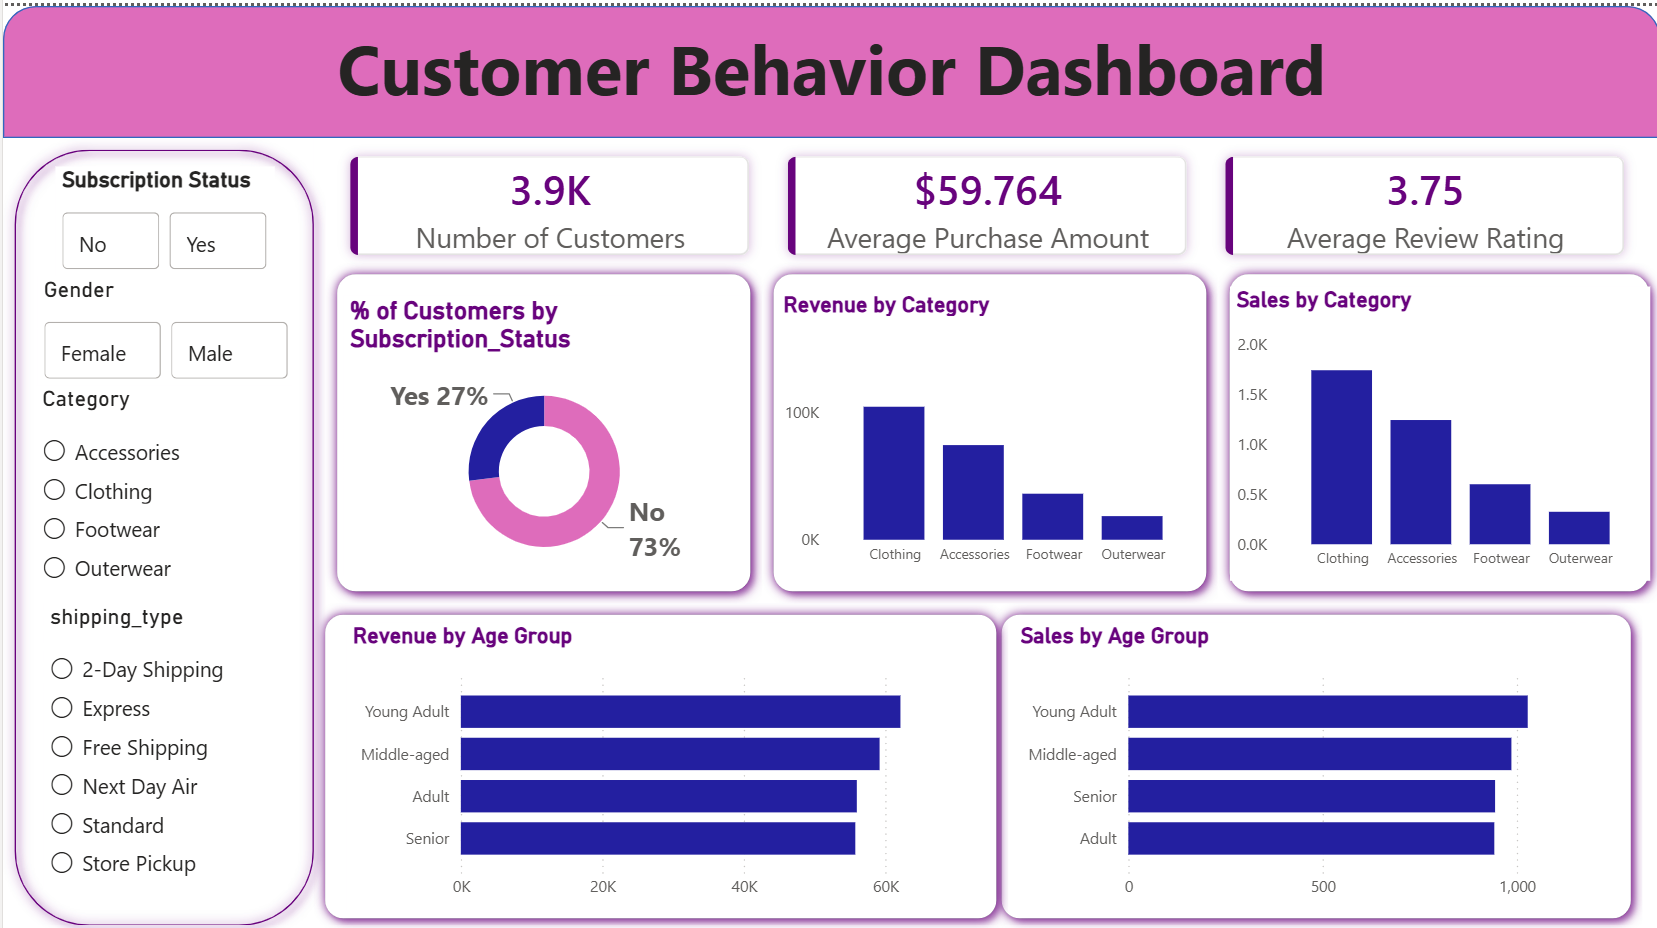

Layout of this report page (visuals, bound fields, positions):
{"tool":"powerbi","page":{"name":"Page 1","canvas":[1280,720],"ordinal":0},"visuals":[{"type":"cardVisual","fields":{"Data":["public customer.Number of Customers","public customer.Average Purchase Amount","public customer.Average Review Rating"]},"box":[239.9,88.1,1040.5,132.1],"z":0},{"type":"shape","box":[0,0,1280.4,102],"z":1000},{"type":"textbox","box":[0,5.8,1280.4,90.4],"z":2000},{"type":"shape","box":[249.1,198.1,337.2,263],"z":3000},{"type":"donutChart","title":"% of Customers by Subscription_Status","fields":{"Category":["public customer.subscription_status"],"Y":["CountNonNull(public customer.customer_id)"]},"box":[263,223.6,309.4,216.7],"z":4000},{"type":"shape","box":[938.6,198.1,341.8,263],"z":5000},{"type":"shape","box":[586.3,198.1,352.3,263],"z":6000},{"type":"shape","box":[762.4,461.2,504,252.6],"z":7000},{"type":"shape","box":[239.9,461.2,536.5,252.6],"z":8000},{"type":"clusteredColumnChart","title":"Revenue by Category","fields":{"Category":["public customer.category"],"Y":["Sum(public customer.purchase_amount)"]},"box":[597.9,220.2,329.1,220.2],"z":9000},{"type":"clusteredColumnChart","title":"Sales by Category","fields":{"Category":["public customer.category"],"Y":["CountNonNull(public customer.customer_id)"]},"box":[947.8,216.7,324.4,227.1],"z":10000},{"type":"shape","box":[0,102,249.1,617.6],"z":11000},{"type":"advancedSlicerVisual","title":"Subscription Status","fields":{"Values":["public customer.subscription_status"]},"box":[40.6,124,169.2,84.6],"z":12000},{"type":"advancedSlicerVisual","title":"Gender","fields":{"Values":["public customer.gender"]},"box":[26.7,208.6,198.1,84.6],"z":12001},{"type":"listSlicer","title":"Category","fields":{"Values":["public customer.category"]},"box":[25.5,293.2,198.1,168],"z":12002},{"type":"listSlicer","fields":{"Values":["public customer.shipping_type"]},"box":[31.3,461.2,188.9,221.3],"z":12003},{"type":"clusteredBarChart","title":"Revenue by Age Group","fields":{"Category":["public customer.age_group"],"Y":["Sum(public customer.purchase_amount)"]},"box":[265.3,476.2,485.5,222.5],"z":12004},{"type":"clusteredBarChart","title":"Sales by Age Group","fields":{"Category":["public customer.age_group"],"Y":["CountNonNull(public customer.customer_id)"]},"box":[781,476.2,468.1,222.5],"z":12005}]}

Visuals, with their boxes in screenshot pixels (x1, y1, x2, y2), scaled from the page's 1280x720 canvas onto the 1657x928 screenshot:
cardVisual - public customer.Number of Customers x public customer.Average Purchase Amount: [x1=311, y1=114, x2=1656, y2=284]
shape: [x1=0, y1=0, x2=1656, y2=131]
textbox: [x1=0, y1=7, x2=1656, y2=124]
shape: [x1=322, y1=255, x2=759, y2=594]
"% of Customers by Subscription_Status" donutChart: [x1=340, y1=288, x2=741, y2=567]
shape: [x1=1215, y1=255, x2=1656, y2=594]
shape: [x1=759, y1=255, x2=1215, y2=594]
shape: [x1=987, y1=594, x2=1639, y2=920]
shape: [x1=311, y1=594, x2=1005, y2=920]
"Revenue by Category" clusteredColumnChart: [x1=774, y1=284, x2=1200, y2=568]
"Sales by Category" clusteredColumnChart: [x1=1227, y1=279, x2=1647, y2=572]
shape: [x1=0, y1=131, x2=322, y2=927]
"Subscription Status" advancedSlicerVisual: [x1=53, y1=160, x2=272, y2=269]
"Gender" advancedSlicerVisual: [x1=35, y1=269, x2=291, y2=378]
"Category" listSlicer: [x1=33, y1=378, x2=289, y2=594]
listSlicer - public customer.shipping_type: [x1=41, y1=594, x2=285, y2=880]
"Revenue by Age Group" clusteredBarChart: [x1=343, y1=614, x2=972, y2=901]
"Sales by Age Group" clusteredBarChart: [x1=1011, y1=614, x2=1617, y2=901]
